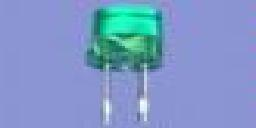LED: (85, 4, 166, 126)
